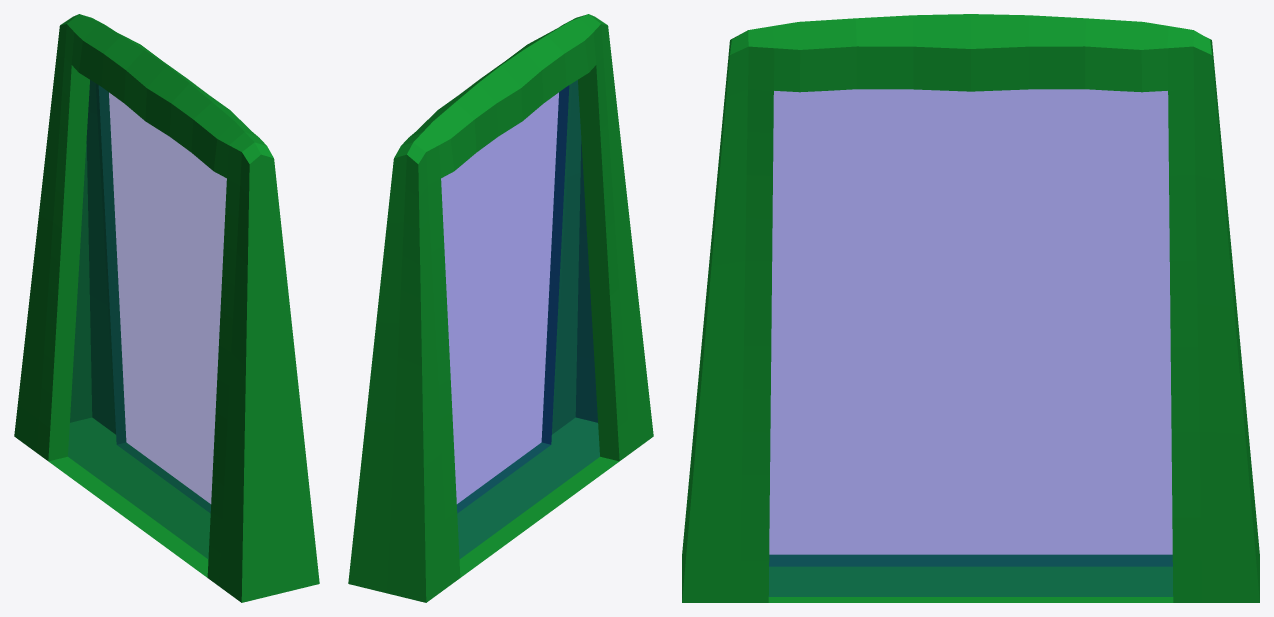
The model's file is Goal.fbx.
The picture shows the model from 3 angles, left to right: view 1: azimuth 30°, elevation 25°; view 2: azimuth 150°, elevation 25°; view 3: azimuth 270°, elevation 25°; orthographic projection. The views are drawn at different scales.
Parts seen in each view (by area): view 1: Cube; view 2: Cube; view 3: Cube.
Boxes of the visible parts, <box> form: Cube: <box>14,14,319,602</box>; Cube: <box>348,14,653,602</box>; Cube: <box>682,14,1259,602</box>.
Bounding box in the file's own units: 200 × 1092 × 1010.
